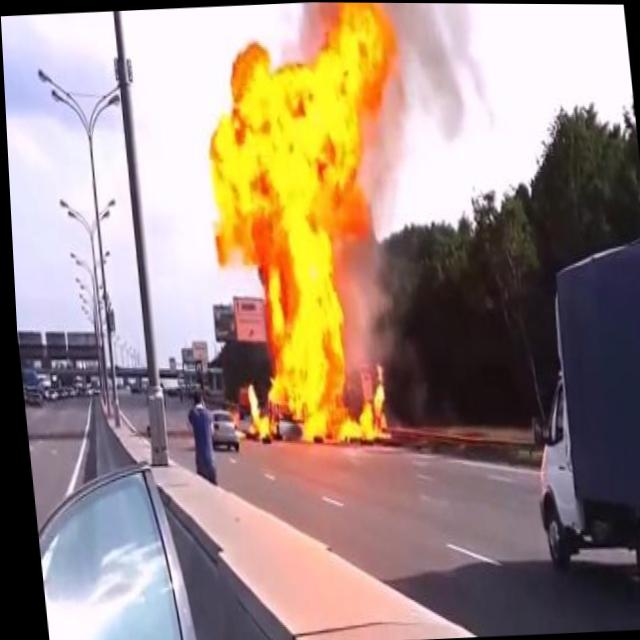fire: (186, 1, 435, 454)
